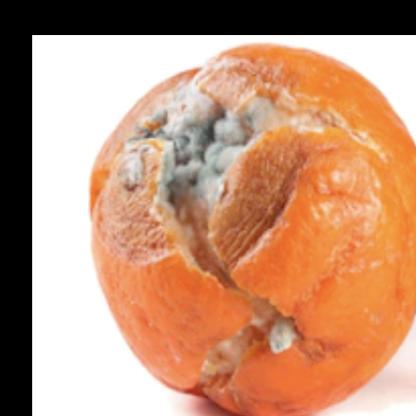rotten: (89, 46, 416, 416)
